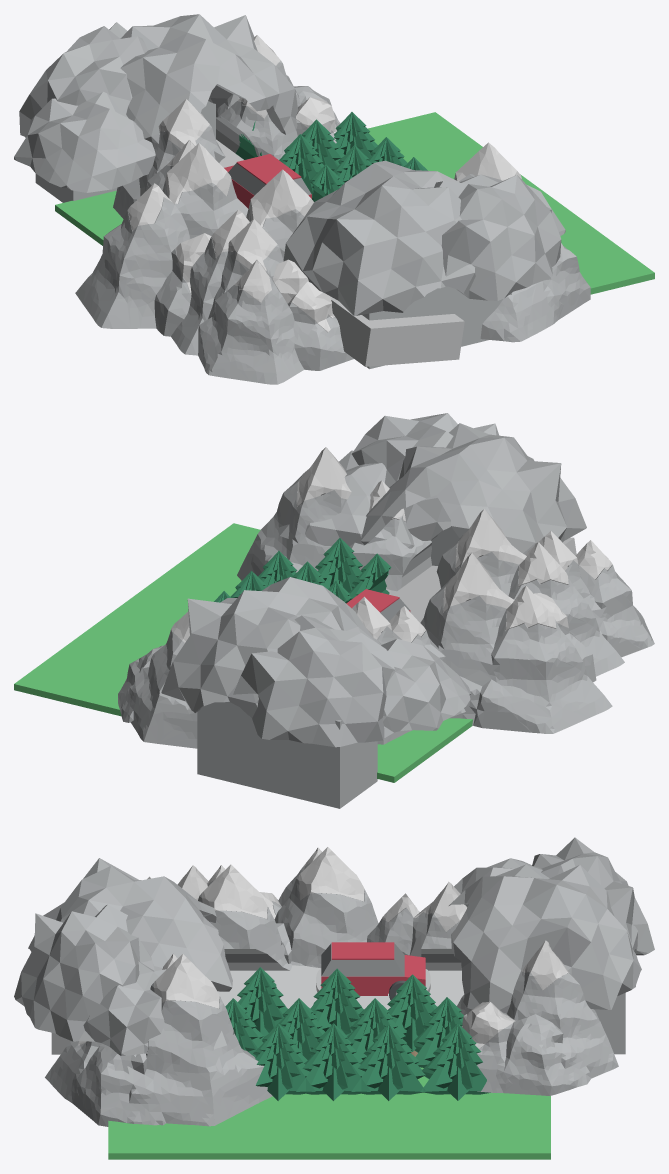
File: Road.glb
3 views of the same model, one above another, from view 1: azimuth 30°, elevation 25°; view 2: azimuth 150°, elevation 25°; view 3: azimuth 270°, elevation 25° (orthographic).
Parts seen in each view (by area): view 1: Mesh_Mesh_head_geo.001_lambert2SG.001; view 2: Mesh_Mesh_head_geo.001_lambert2SG.001; view 3: Mesh_Mesh_head_geo.001_lambert2SG.001.
Boxes of the visible parts, left/top/right/bottom form: Mesh_Mesh_head_geo.001_lambert2SG.001: left=14, top=14, right=654, bottom=384; Mesh_Mesh_head_geo.001_lambert2SG.001: left=14, top=413, right=654, bottom=808; Mesh_Mesh_head_geo.001_lambert2SG.001: left=14, top=837, right=654, bottom=1159.
Size of the model in its own units: 249 by 84.31 by 294.
